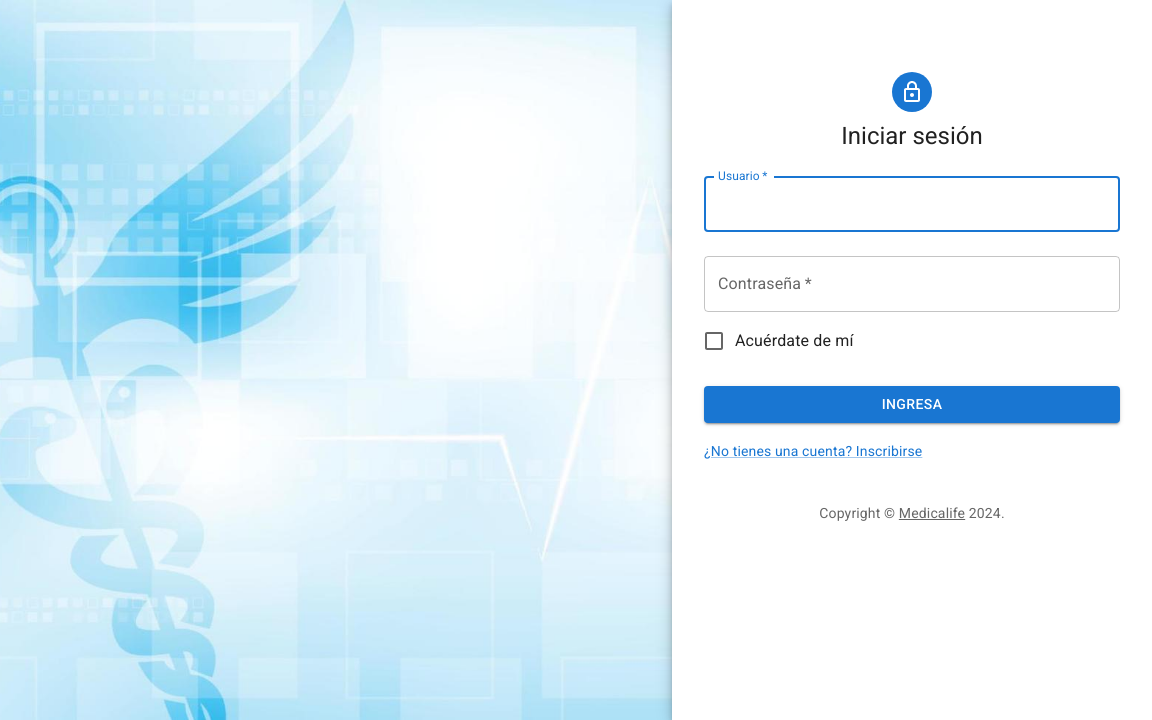
Test: Prueba de inicio de sesión › Debe mostrar un error cuando el login falle
Note: Escribir un usuario y una contraseña incorrectos
Type "usuario_incorrecto" into the field named "usuario" at point(912, 204), box [704, 176, 1120, 232]
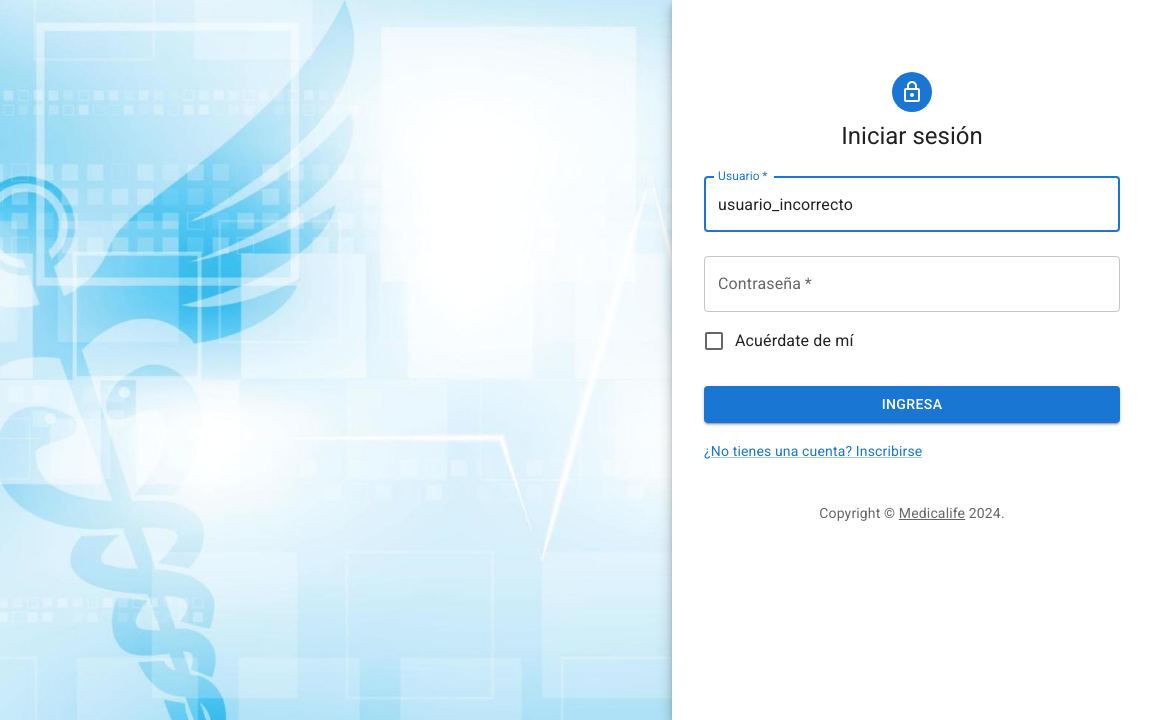
Type "password_incorrecta" into the password field named "password" at point(912, 284), box [704, 256, 1120, 312]
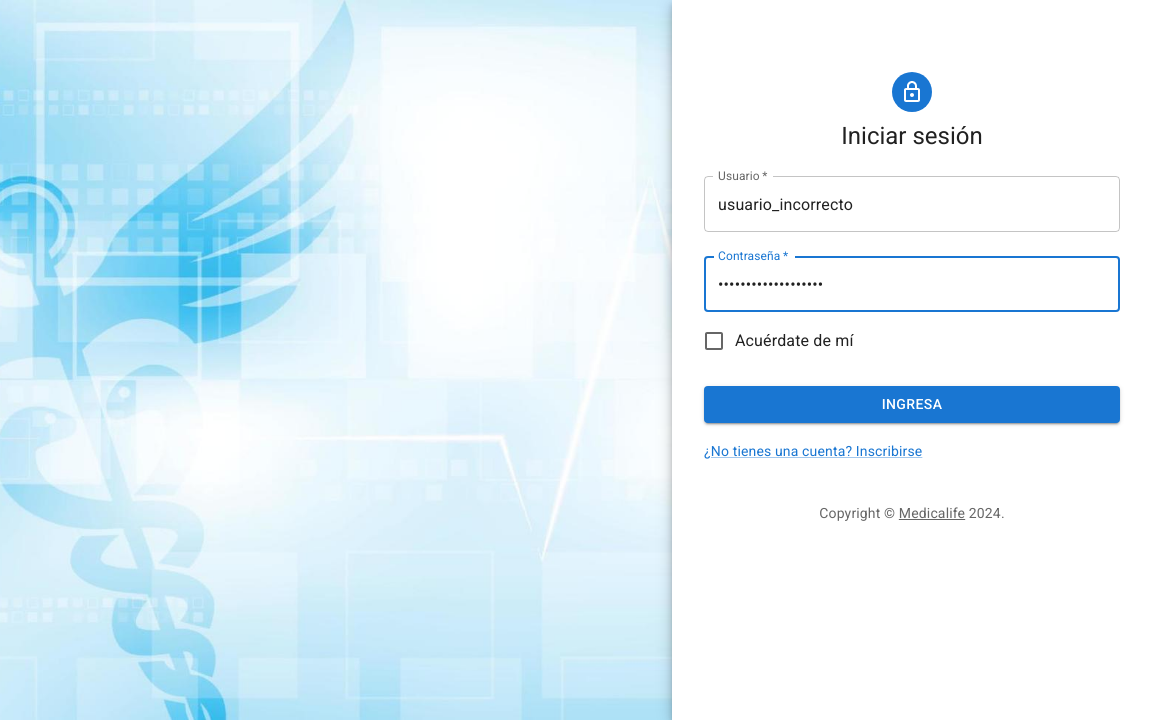
Note: Hacer clic en el botón de ingresar
Click the submit button at point(912, 405), box [704, 386, 1120, 423]
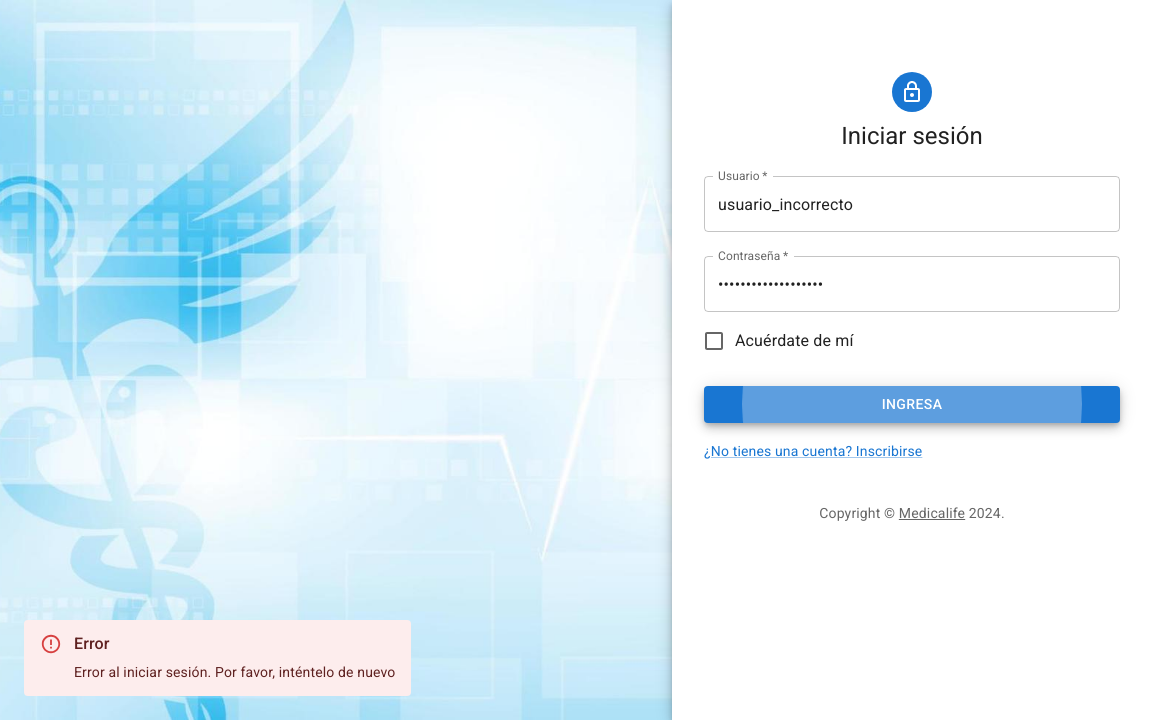
expect the element showing "Error Error al iniciar sesión. Por favor, inténtelo de nuevo" is shown: met, box [74, 626, 396, 690]
